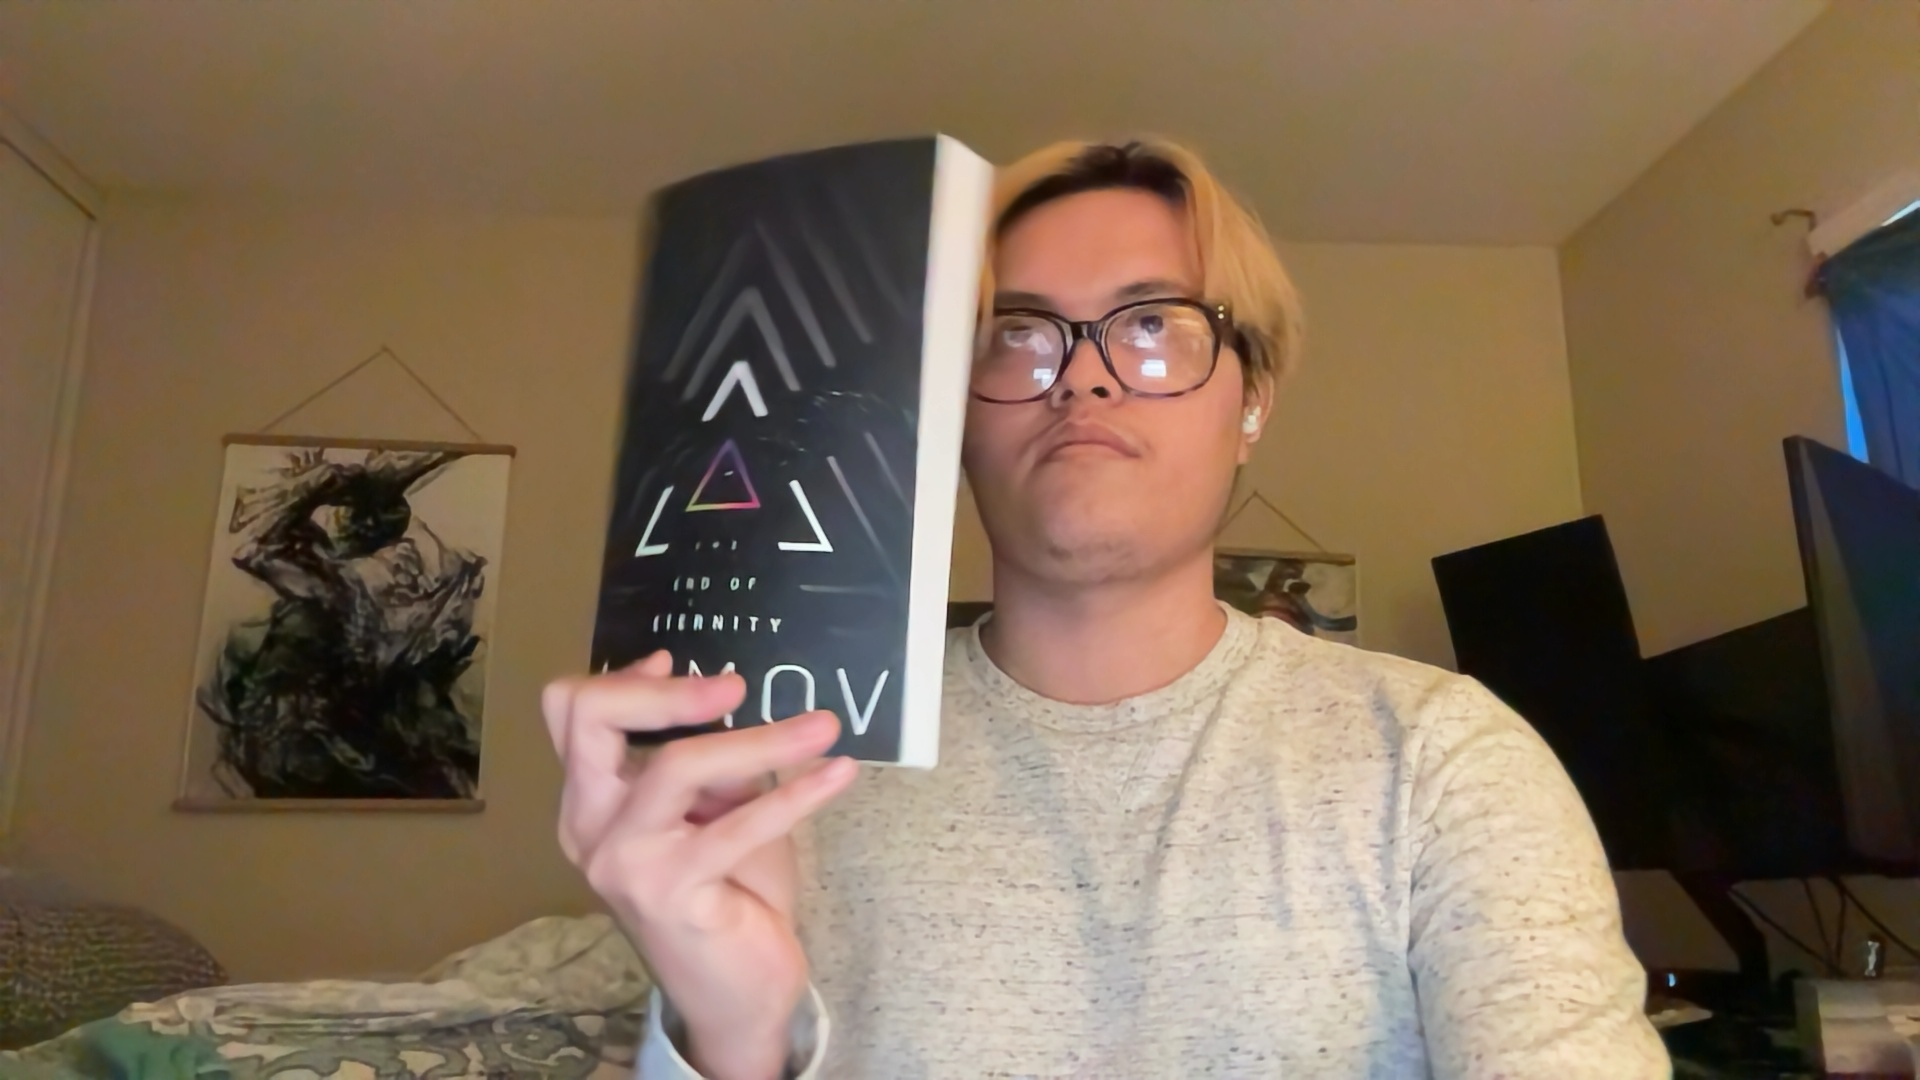book: (604, 135, 990, 798)
